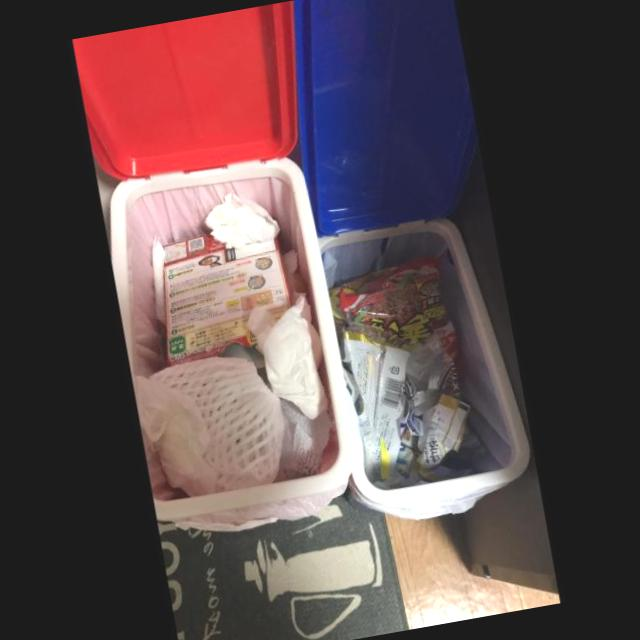bao_bi_thuc_pham: (328, 257, 457, 356), (343, 339, 410, 483), (416, 394, 470, 469), (407, 355, 441, 415)
carton: (162, 235, 291, 366)
giay: (135, 375, 219, 497), (262, 296, 327, 420), (204, 192, 280, 258)
xop: (147, 356, 284, 492)
